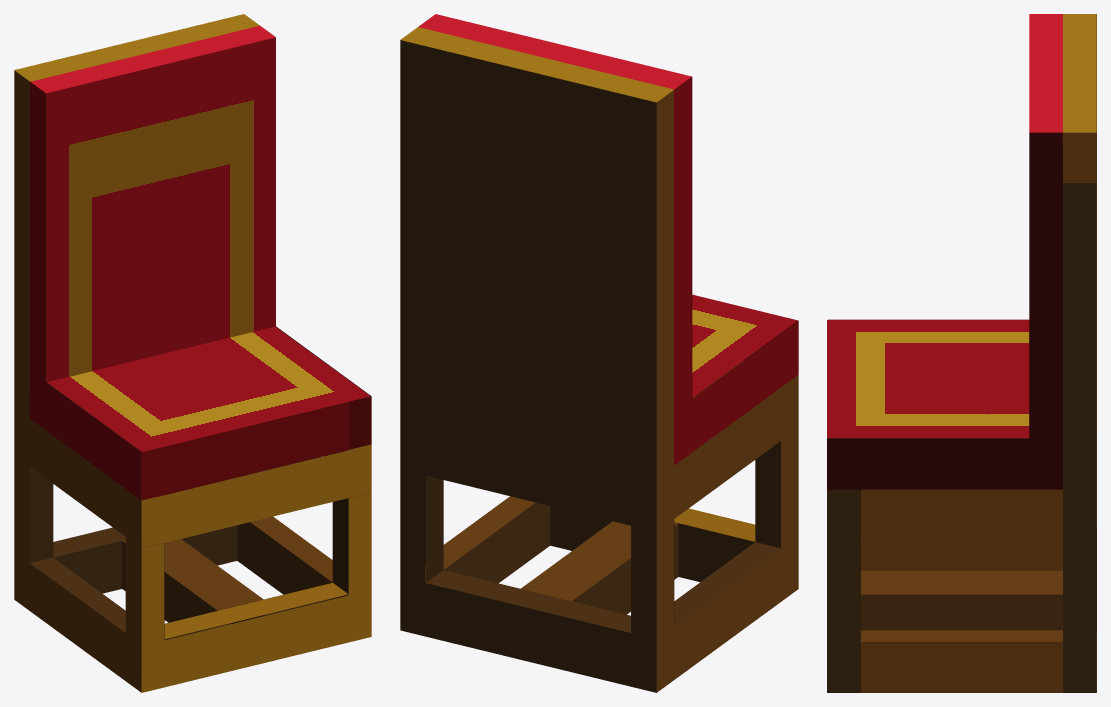
Rendered from chair_873x06.obj.
3 renders of one model, left to right at view 1: azimuth 30°, elevation 25°; view 2: azimuth 150°, elevation 25°; view 3: azimuth 270°, elevation 25°, orthographic. The views are drawn at different scales.
Parts seen in each view (by area): view 1: Chair; view 2: Chair; view 3: Chair.
Boxes of the visible parts, bbox=[...] form: Chair: bbox=[14, 14, 371, 692]; Chair: bbox=[400, 14, 798, 692]; Chair: bbox=[827, 14, 1096, 692].
Size of the model in its own units: 1.25 by 2.75 by 1.2.
